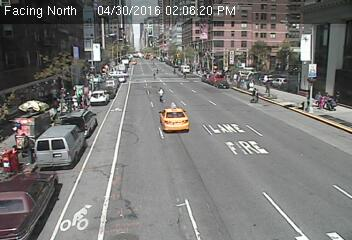neg: (104, 171, 137, 215), (62, 158, 94, 200), (319, 151, 349, 192), (247, 122, 277, 162), (257, 169, 282, 203), (282, 142, 306, 174), (138, 155, 160, 185), (130, 96, 152, 126), (128, 29, 150, 58), (182, 149, 203, 176), (28, 102, 48, 129), (81, 47, 101, 74), (300, 47, 319, 73), (69, 115, 88, 140), (14, 57, 32, 82), (204, 188, 222, 213), (215, 110, 233, 134), (111, 50, 129, 73), (214, 73, 230, 95), (97, 101, 113, 123), (77, 83, 92, 104), (19, 134, 33, 154), (203, 39, 217, 58), (32, 34, 46, 53), (242, 39, 253, 54), (331, 31, 341, 45), (167, 33, 175, 44)
pos: (251, 85, 265, 104), (156, 85, 168, 101), (265, 81, 275, 95)
